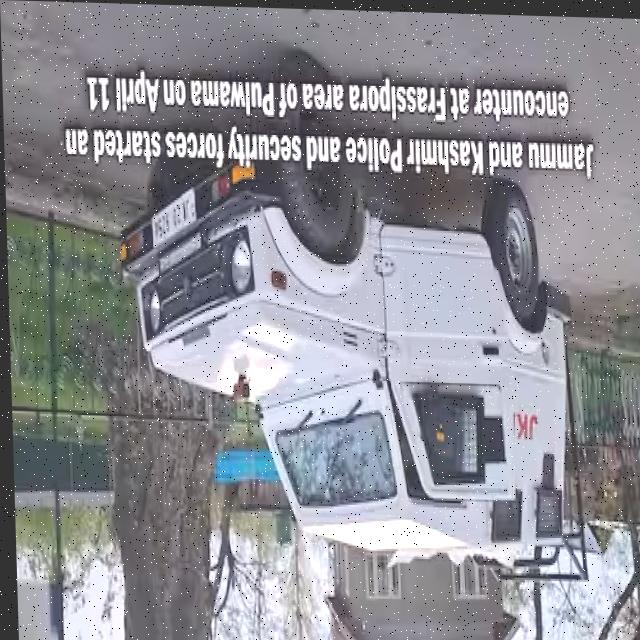plate: (146, 176, 197, 250)
